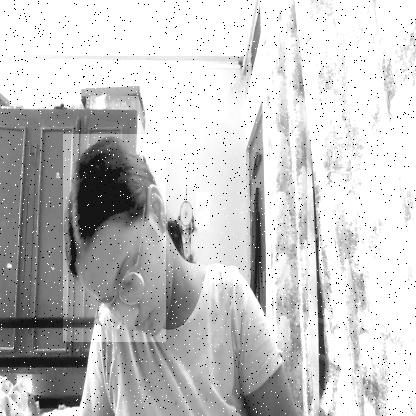Distracted: (63, 134, 166, 342)
